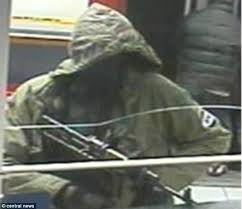rifle: (35, 114, 200, 208)
